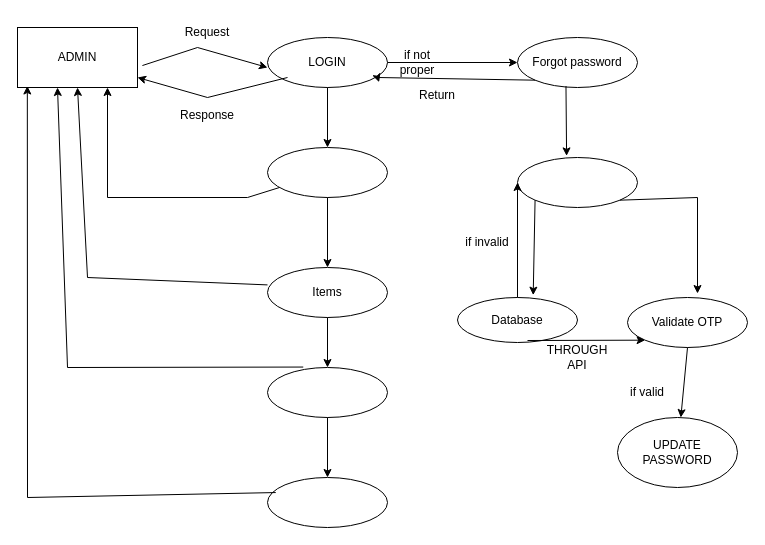
The diagram is 765 pixels wide and 545 high, and some of its shapes have lost their labels. Each missing label, with the centre of its shape:
Category: point (327, 172)
Enter mobile number: point (577, 182)
Order: point (327, 392)
Reports: point (327, 502)
